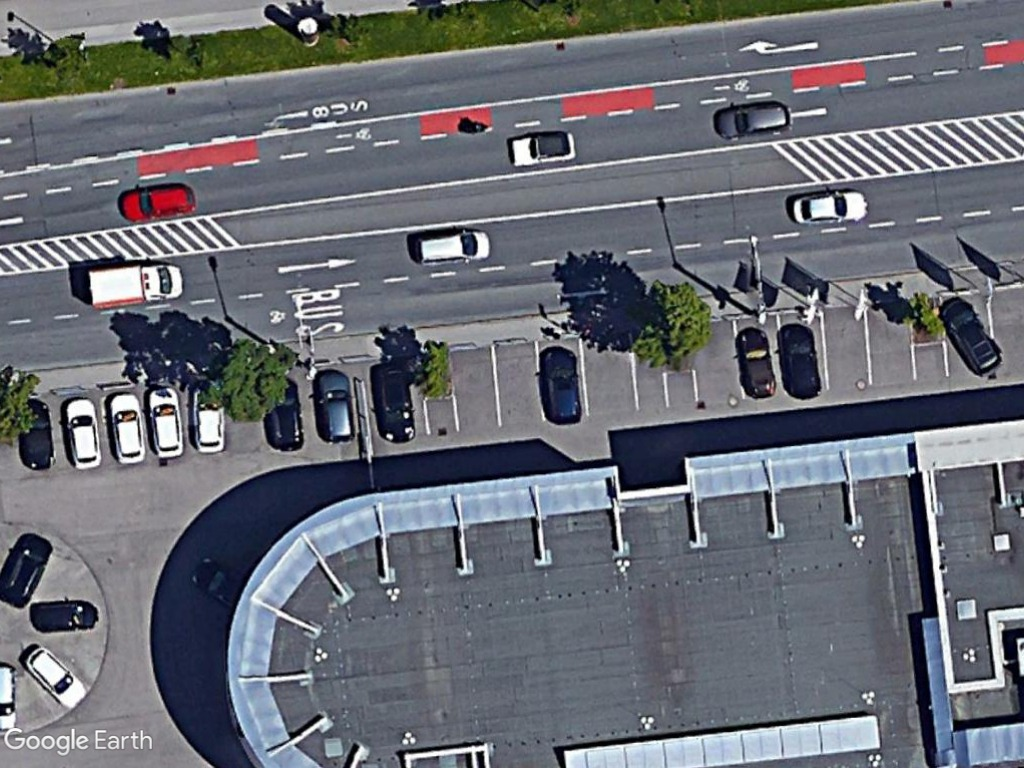car: (18, 644, 92, 714), (535, 343, 587, 428), (773, 320, 823, 404), (307, 366, 358, 446), (733, 321, 780, 407), (58, 392, 107, 473), (140, 382, 190, 460), (712, 97, 796, 143), (409, 223, 493, 269), (116, 179, 198, 226), (101, 388, 150, 465), (784, 186, 873, 228)
truck: (81, 259, 191, 314)
